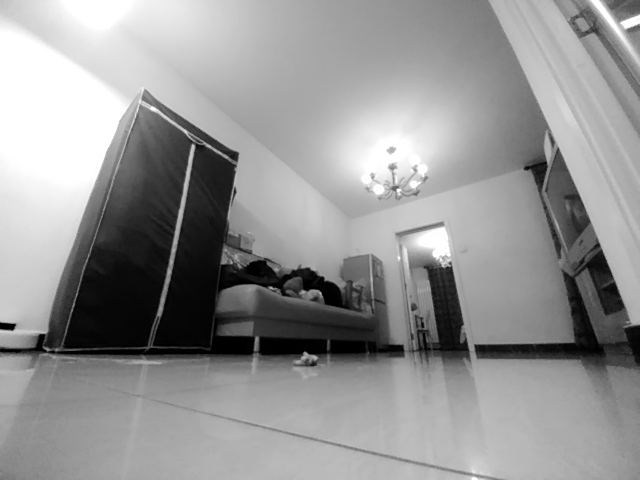curtain: (424, 264, 468, 350)
pet feces: (292, 348, 320, 368)
